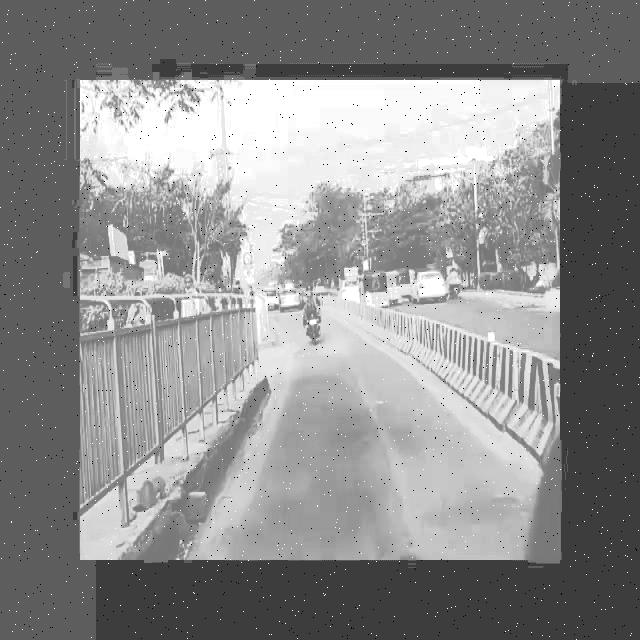Auto-Rickshaw: (361, 271, 392, 311), (384, 270, 406, 307)
Bike: (297, 284, 326, 346)
Car: (408, 261, 453, 303)
